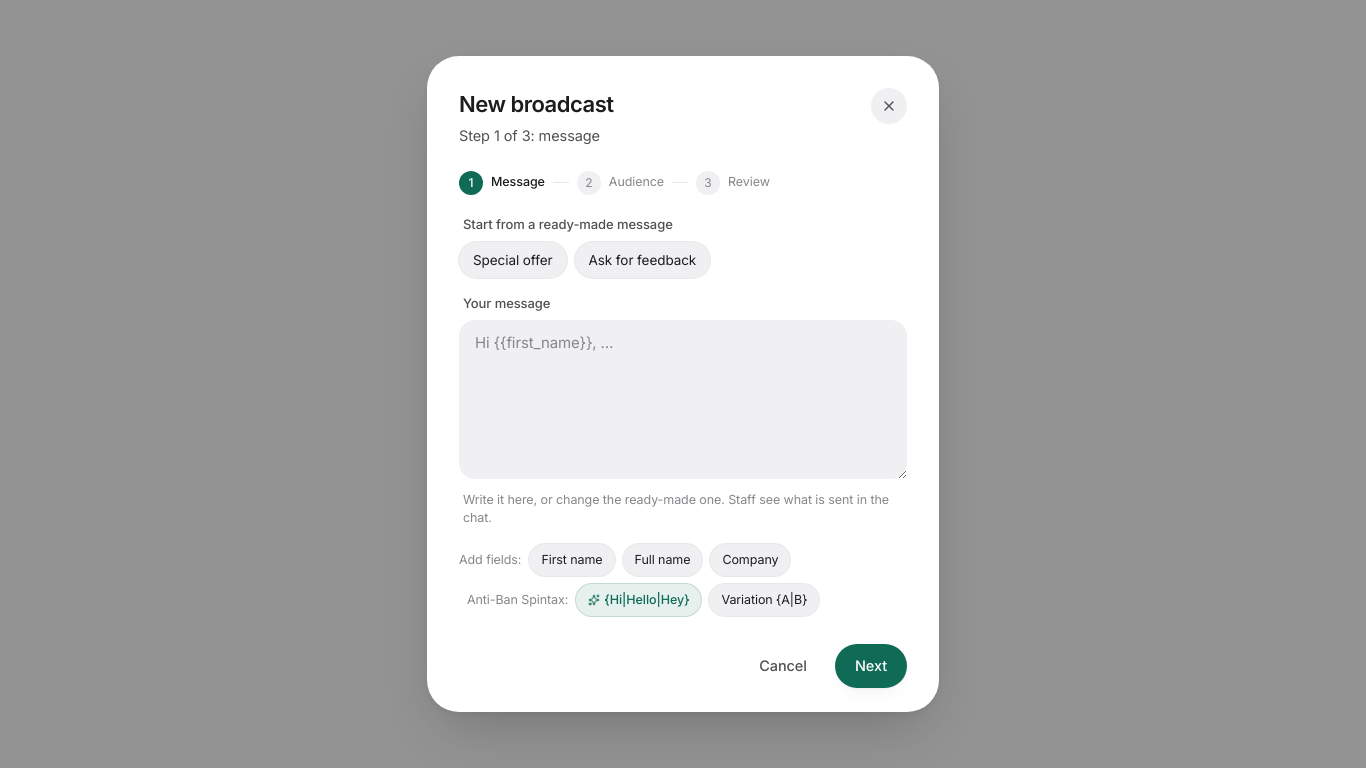
Test: step 2: the audience › counts who will receive it, and who is left out and why
Click the button "Ask for feedback".
click(642, 260)  # box top-left (574, 242), bottom-right (710, 278)
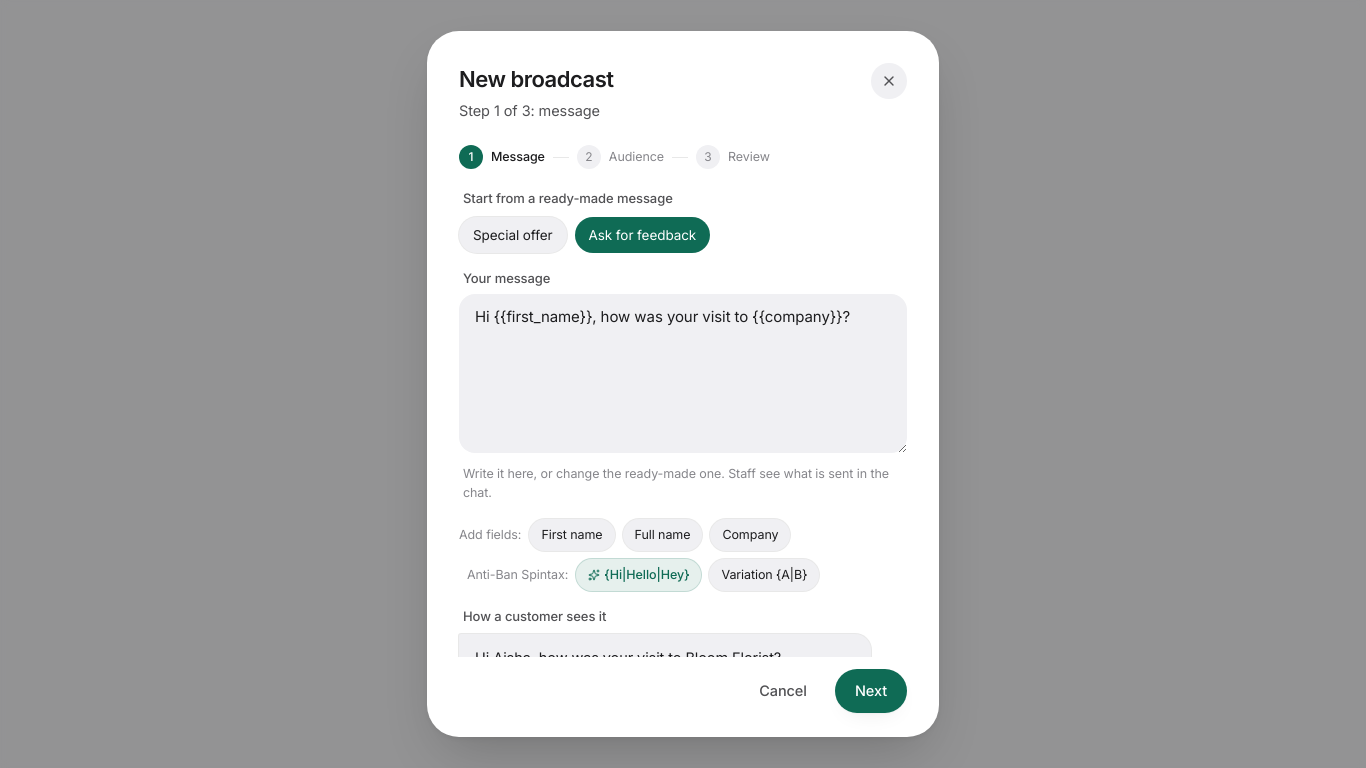
Click the button "Next".
click(871, 691)  # box top-left (835, 669), bottom-right (907, 713)
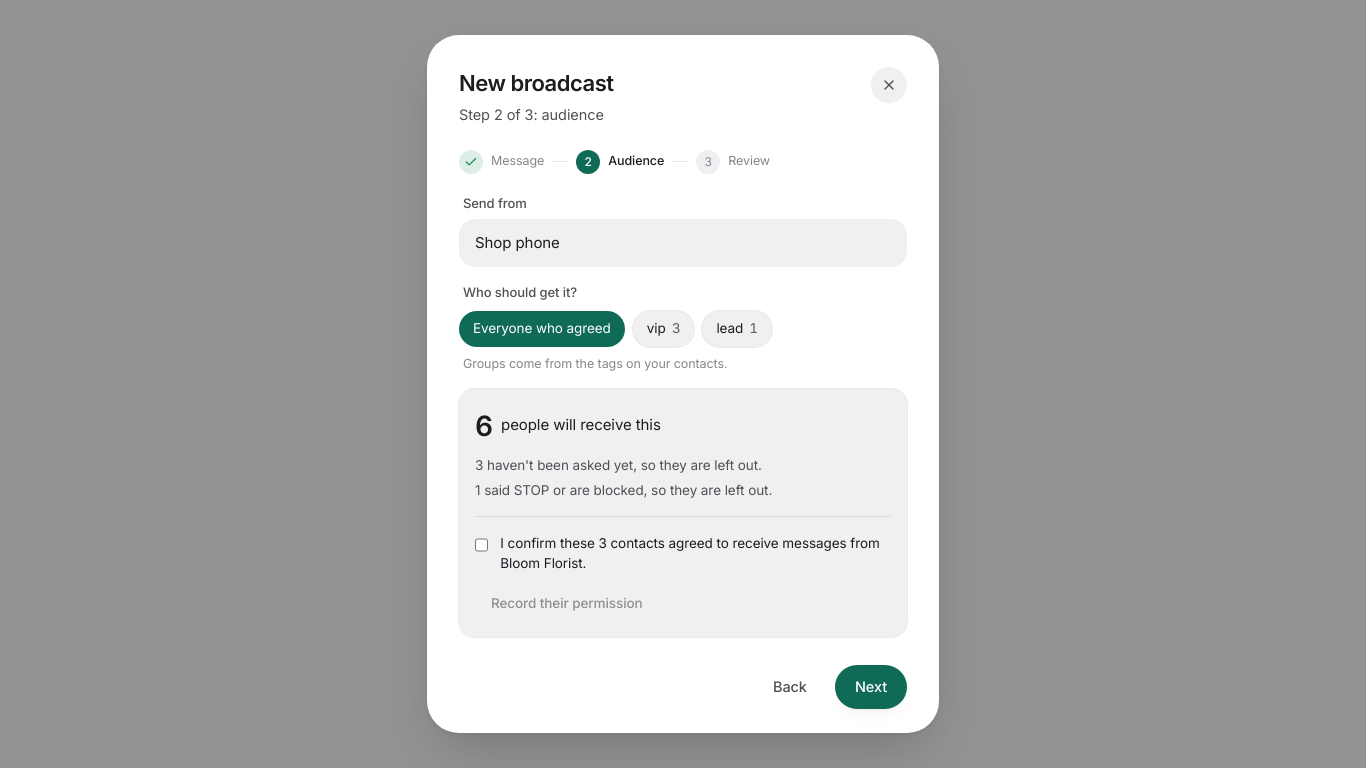
expect the text "6people will receive this" is shown: met, box top-left (475, 409), bottom-right (661, 443)
expect the element with test id "audience" shows "6people will receive this": met, box top-left (459, 389), bottom-right (907, 637)
expect the list item "3 haven't been asked yet, so they are left out." is shown: met, box top-left (475, 457), bottom-right (762, 473)
